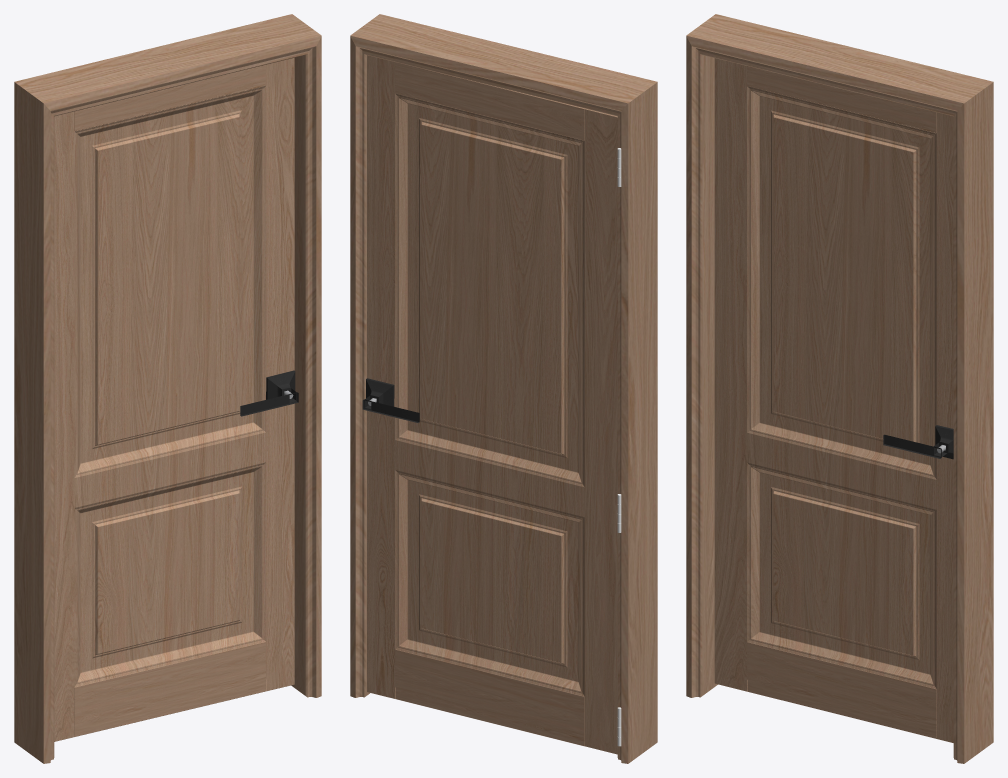
Rendered from door.glb.
The picture shows the model from 3 angles, left to right: view 1: azimuth 30°, elevation 25°; view 2: azimuth 150°, elevation 25°; view 3: azimuth 330°, elevation 25°; orthographic projection.
Parts seen in each view (by area): view 1: Door_8, Door Frame_1, Door plank_3, Plane.001_4, Plane_5; view 2: Door_8, Door Frame_1, Door plank_3, Plane.003_6, Plane.002_7, Circle.003_2; view 3: Door_8, Door Frame_1, Door plank_3, Plane.001_4.
Boxes of the visible parts, bbox=[...] form: Door_8: bbox=[54, 58, 294, 741]; Door Frame_1: bbox=[14, 14, 321, 763]; Door plank_3: bbox=[74, 65, 265, 736]; Plane.001_4: bbox=[240, 388, 298, 416]; Plane_5: bbox=[266, 370, 295, 399]; Door_8: bbox=[367, 55, 617, 754]; Door Frame_1: bbox=[350, 14, 657, 763]; Door plank_3: bbox=[395, 62, 584, 746]; Plane.003_6: bbox=[362, 395, 419, 422]; Plane.002_7: bbox=[366, 378, 394, 406]; Circle.003_2: bbox=[617, 148, 621, 746]; Door_8: bbox=[714, 58, 953, 742]; Door Frame_1: bbox=[686, 14, 993, 763]; Door plank_3: bbox=[747, 66, 936, 738]; Plane.001_4: bbox=[883, 434, 947, 458].
Size of the model in its own units: 1.15 by 2.61 by 0.2906.
Materials: 6 (5 with a texture image).
